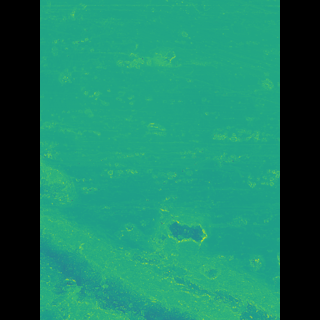Loch: (69, 140, 250, 320)
